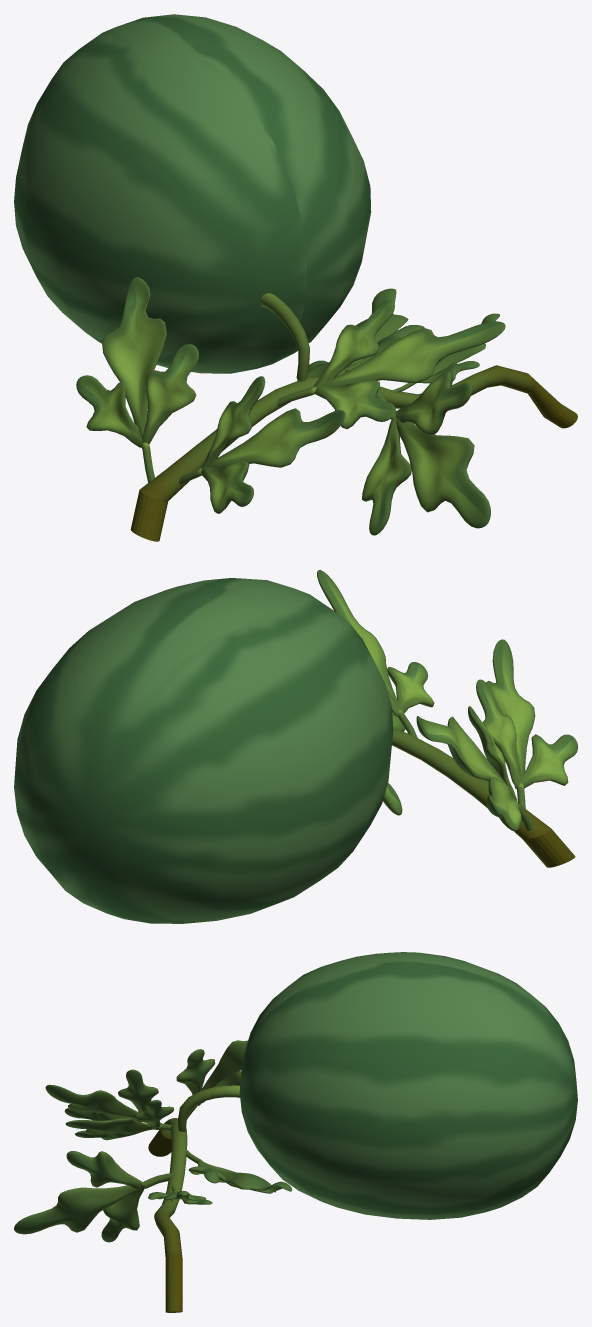
Rendered from Sandia_Planta.fbx.
3 renders of one model, top to bottom at view 1: azimuth 30°, elevation 25°; view 2: azimuth 150°, elevation 25°; view 3: azimuth 270°, elevation 25°, orthographic. The views are drawn at different scales.
Parts seen in each view (by area): view 1: sandia2; view 2: sandia2; view 3: sandia2.
Boxes of the visible parts, <box> form: sandia2: <box>14,14,577,541</box>; sandia2: <box>14,570,577,923</box>; sandia2: <box>14,952,577,1312</box>.
Size of the model in its own units: 1.66 by 1.25 by 2.26.
